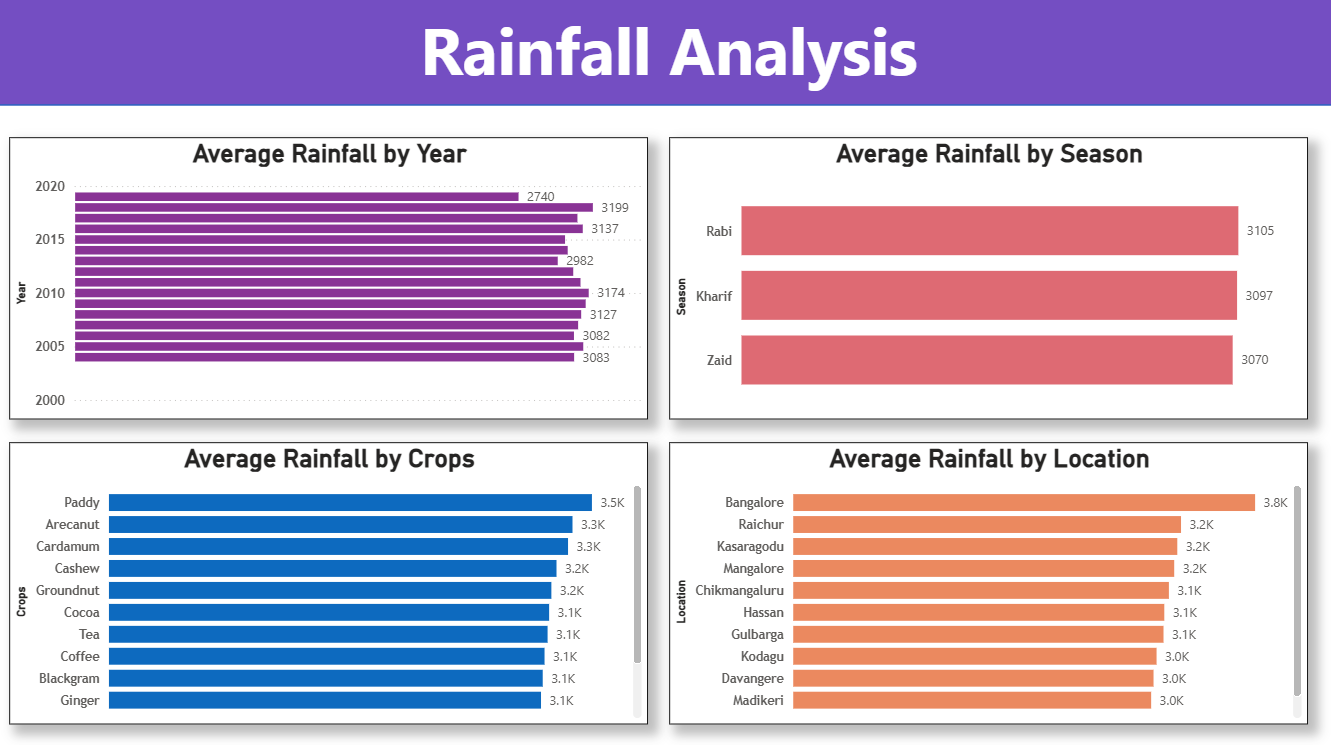

The page's visual inventory and layout, read from the dashboard file:
{"tool":"powerbi","page":{"name":"Rainfall Analysis","canvas":[1280,720],"ordinal":0},"visuals":[{"type":"shape","box":[9.6,0,1270.7,108.4],"z":0},{"type":"barChart","fields":{"Y":["Avg(AGRICULTURE.RAINFALL)"],"Category":["AGRICULTURE.YEAR"]},"box":[20.6,138.6,605.1,267.6],"z":1000},{"type":"barChart","fields":{"Category":["AGRICULTURE.SEASON"],"Y":["Avg(AGRICULTURE.RAINFALL)"]},"box":[644.9,138.6,605.1,267.6],"z":2000},{"type":"barChart","fields":{"Y":["Avg(AGRICULTURE.RAINFALL)"],"Category":["AGRICULTURE.CROPS"]},"box":[20.6,426.8,605.1,267.6],"z":3000},{"type":"barChart","fields":{"Y":["Avg(AGRICULTURE.RAINFALL)"],"Category":["AGRICULTURE.LOCATION"]},"box":[644.9,426.8,605.1,267.6],"z":4000}]}

Visuals, with their boxes in screenshot pixels (x1, y1, x2, y2), scaled from the page's 1280x720 canvas onto the 1331x745 screenshot:
shape: {"left": 10, "top": 0, "right": 1330, "bottom": 112}
barChart - Avg(AGRICULTURE.RAINFALL) x AGRICULTURE.YEAR: {"left": 21, "top": 143, "right": 651, "bottom": 420}
barChart - AGRICULTURE.SEASON x Avg(AGRICULTURE.RAINFALL): {"left": 671, "top": 143, "right": 1300, "bottom": 420}
barChart - Avg(AGRICULTURE.RAINFALL) x AGRICULTURE.CROPS: {"left": 21, "top": 442, "right": 651, "bottom": 719}
barChart - Avg(AGRICULTURE.RAINFALL) x AGRICULTURE.LOCATION: {"left": 671, "top": 442, "right": 1300, "bottom": 719}
